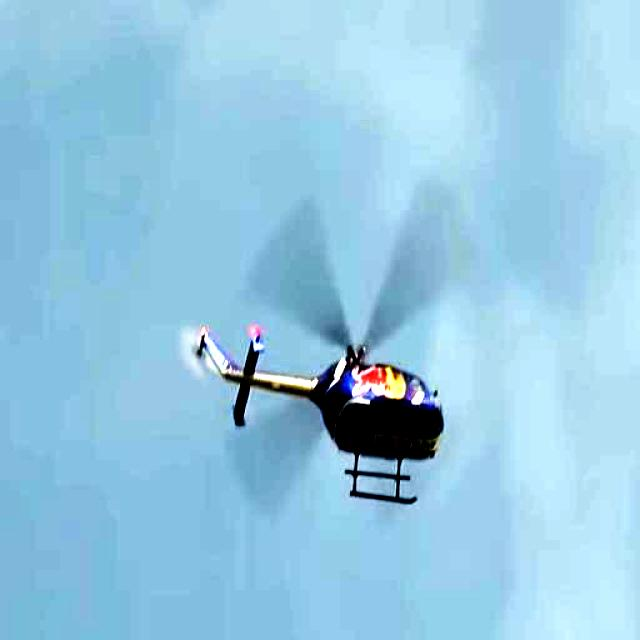drone: (175, 246, 460, 538)
